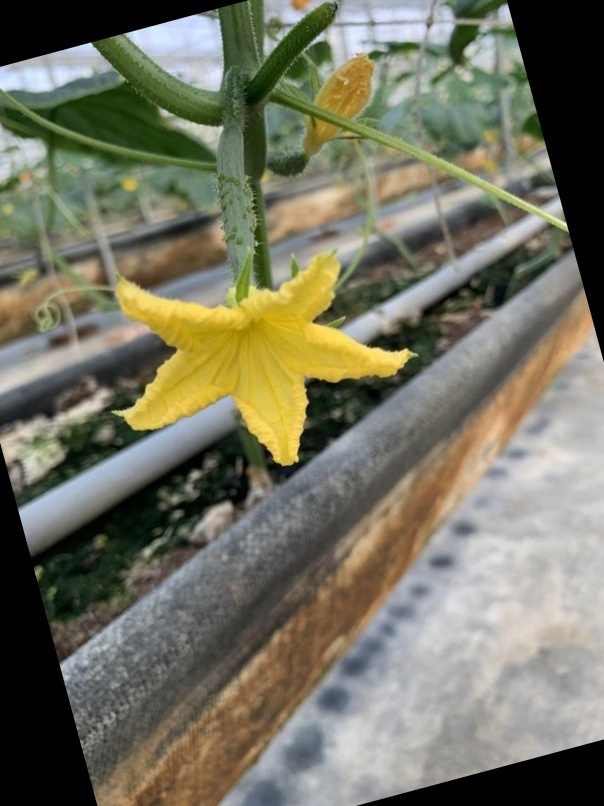flowering: (72, 99, 402, 480)
